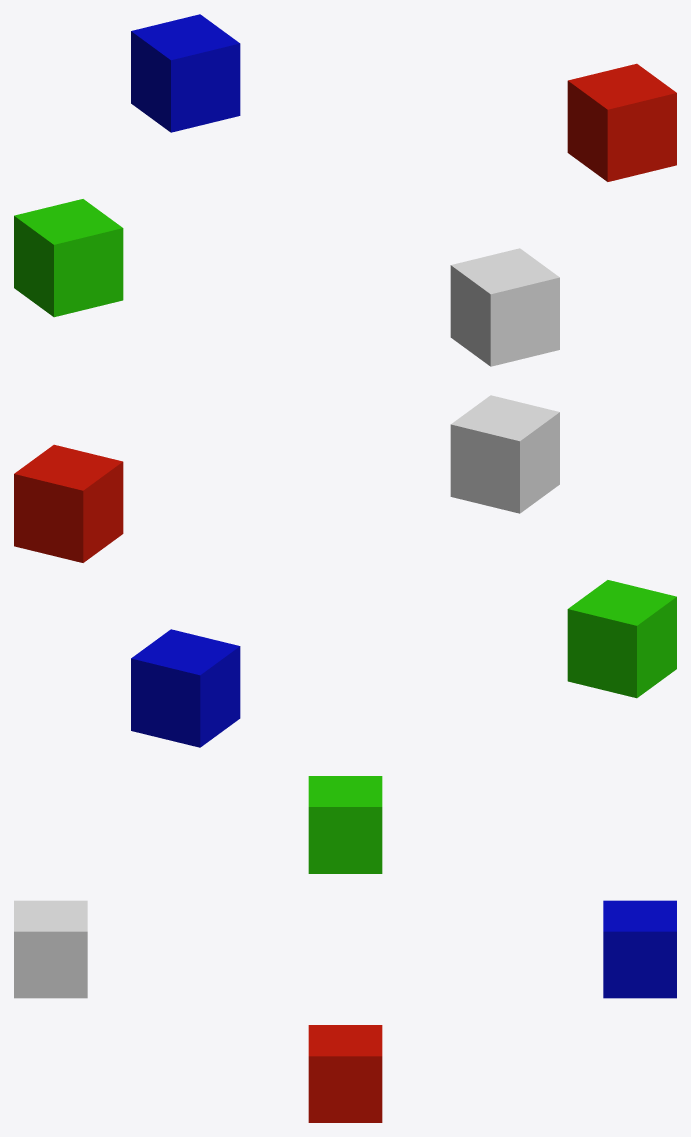
The picture shows the model from 3 angles, top to bottom: view 1: azimuth 30°, elevation 25°; view 2: azimuth 150°, elevation 25°; view 3: azimuth 270°, elevation 25°; orthographic projection. The views are drawn at different scales.
Visible parts, largest first — view 1: SpriteKitCube, BlueCube, GreenCube, RedCube; view 2: SpriteKitCube, BlueCube, GreenCube, RedCube; view 3: GreenCube, RedCube, SpriteKitCube, BlueCube.
Part boxes in pixels (left/top/right/bottom): SpriteKitCube: left=450, top=248, right=559, bottom=366; BlueCube: left=131, top=14, right=240, bottom=132; GreenCube: left=14, top=199, right=123, bottom=317; RedCube: left=567, top=63, right=676, bottom=181; SpriteKitCube: left=450, top=395, right=559, bottom=513; BlueCube: left=131, top=629, right=240, bottom=747; GreenCube: left=567, top=580, right=676, bottom=698; RedCube: left=14, top=444, right=123, bottom=562; GreenCube: left=308, top=776, right=382, bottom=873; RedCube: left=308, top=1025, right=382, bottom=1122; SpriteKitCube: left=14, top=900, right=87, bottom=998; BlueCube: left=603, top=900, right=676, bottom=998.
Size of what is drawn, in the model's own units: 9 by 9 by 1.
